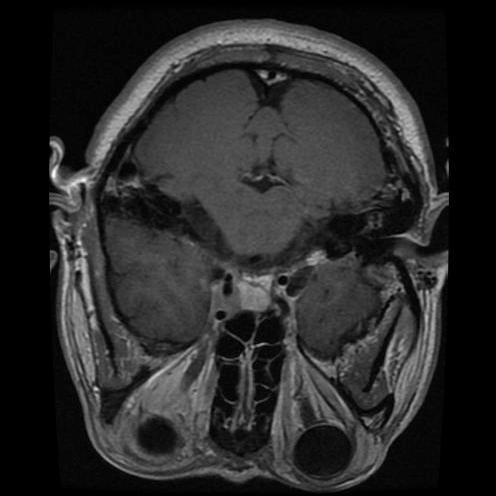Tumour-Pituitary: (214, 257, 297, 321)
